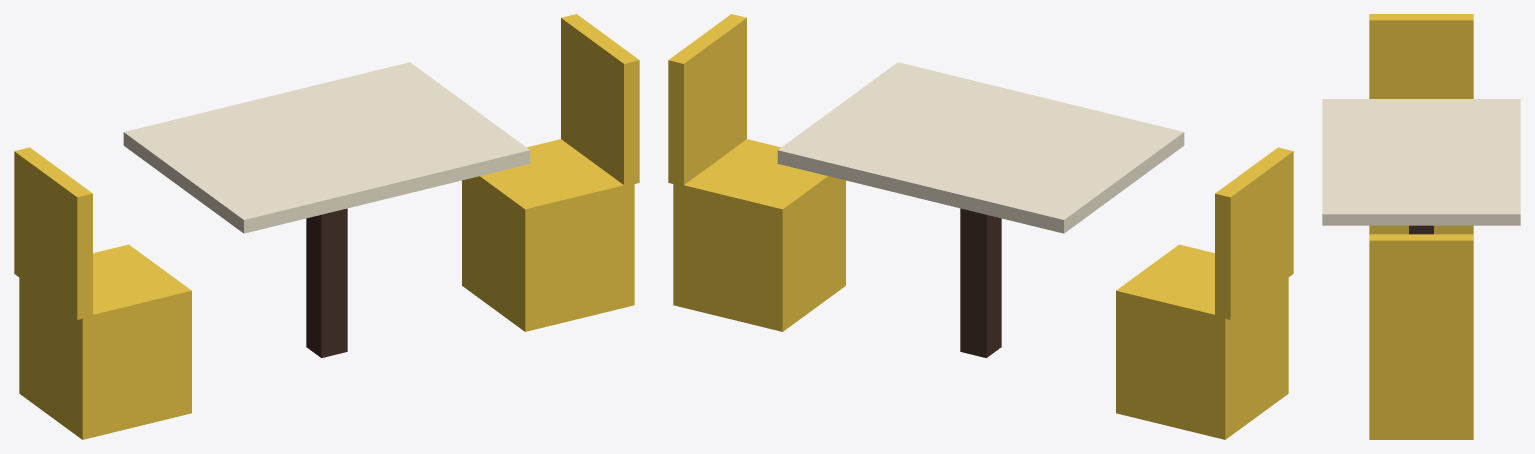
Rendered from fc_table_2.glb.
3 renders of one model, left to right at view 1: azimuth 30°, elevation 25°; view 2: azimuth 150°, elevation 25°; view 3: azimuth 270°, elevation 25°, orthographic. The views are drawn at different scales.
Visible parts, largest first — view 1: Box1, Box5, Box3, Box4, Box6, Box2; view 2: Box1, Box5, Box3, Box4, Box6, Box2; view 3: Box1, Box6, Box5, Box4, Box3, Box2.
Part boxes in pixels (x1,y1,x2,y2): Box1: (123,62,530,233); Box5: (462,139,634,331); Box3: (19,244,191,439); Box4: (14,147,92,319); Box6: (561,14,639,186); Box2: (306,208,347,357); Box1: (777,62,1184,233); Box5: (673,139,845,331); Box3: (1116,244,1288,439); Box4: (1215,147,1293,319); Box6: (668,14,746,185); Box2: (960,208,1001,357); Box1: (1322,99,1520,225); Box6: (1369,234,1473,341); Box5: (1369,342,1473,439); Box4: (1369,14,1473,98); Box3: (1369,225,1473,234); Box2: (1409,225,1433,234).
Size of the model in its own units: 2.16 by 0.895 by 0.8.
